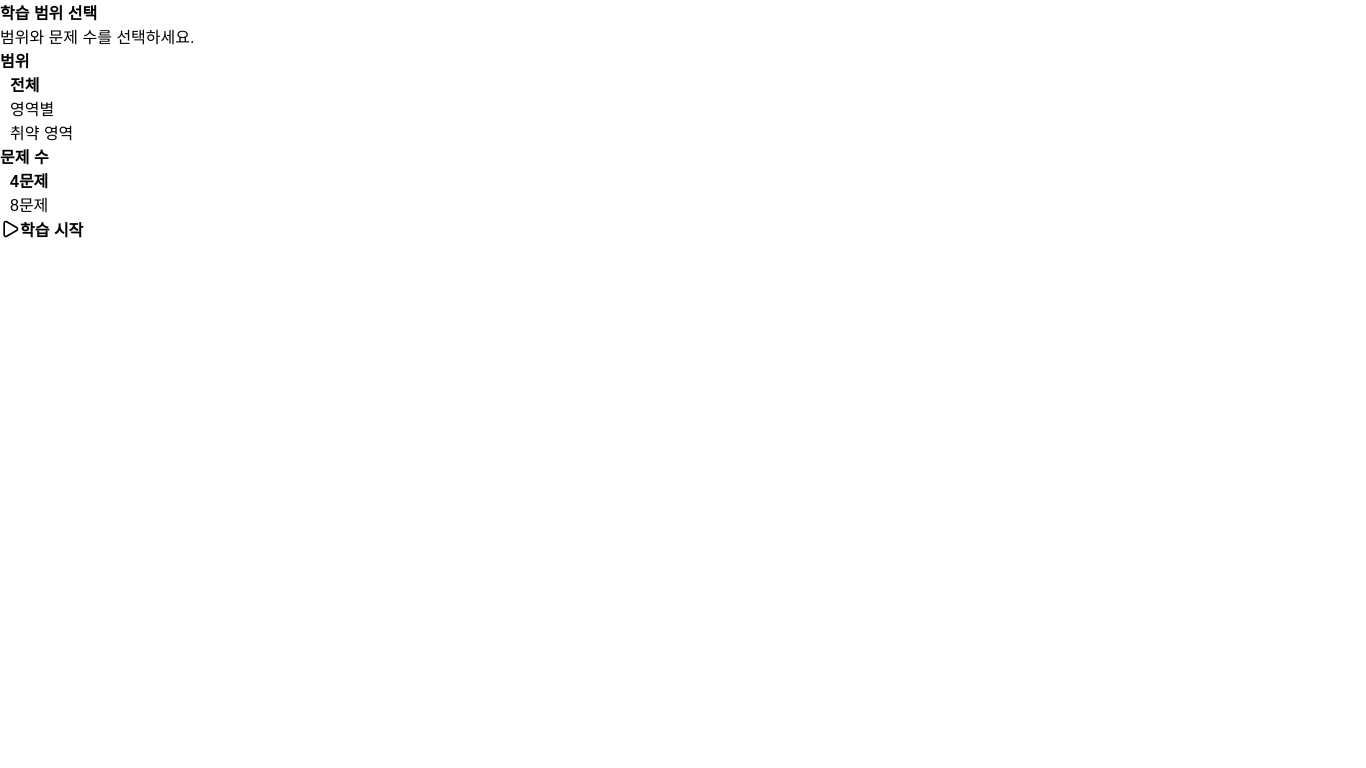
Test case: 학습 화면 버튼 위계 › 결과 화면: 새 세트 시작=primary·학습 이력·오답 복습=secondary(같은 크기)
The image size is (1366, 768).
Click the button "학습 시작".
click(42, 229)  # box [0,216,83,242]
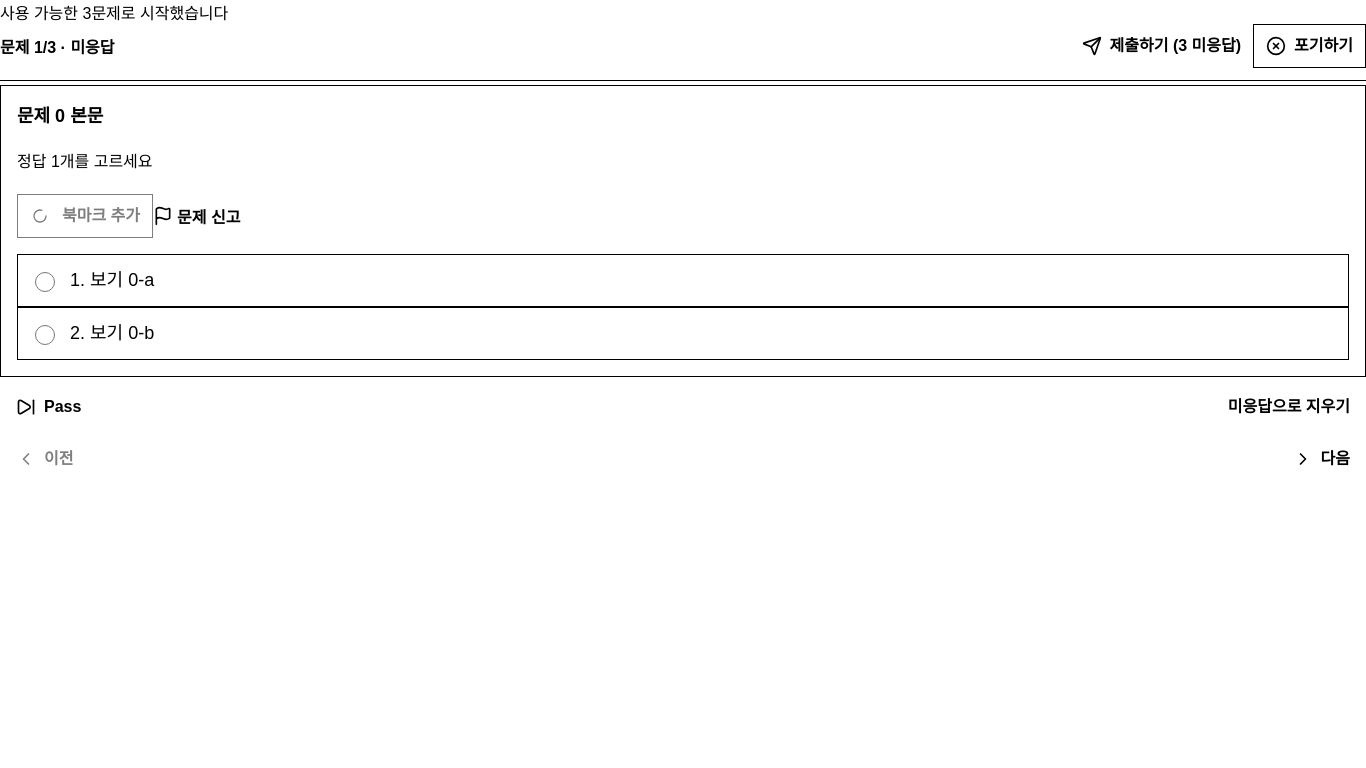
Result: the text "문제 1/3 · 미응답" is shown at [0,34,115,58]
Click the radio button with aria-label "보기 1".
click(45, 282)  # box [35,272,55,292]
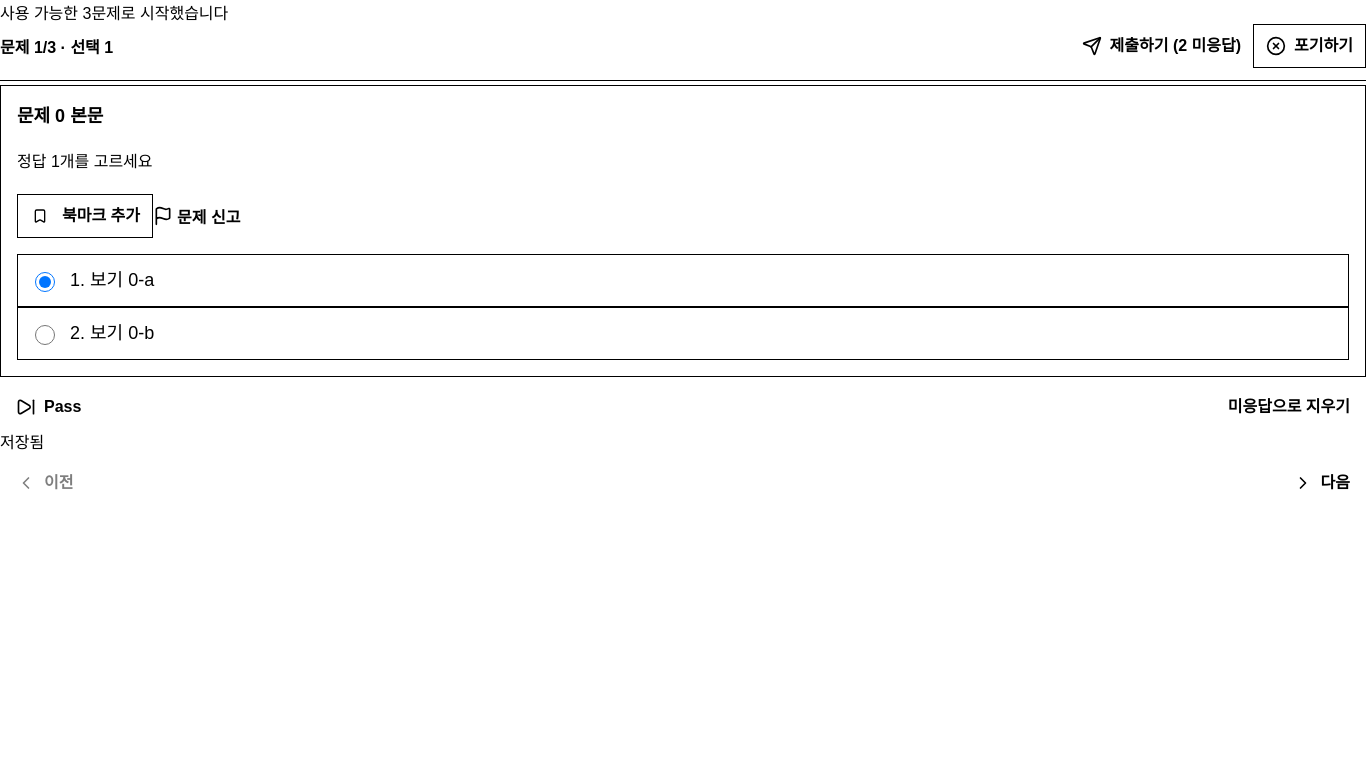
Result: the text "저장됨" is shown at [0,434,44,451]
Click the button "제출하기 (2 미응답)".
click(1161, 46)  # box [1070,24,1253,68]
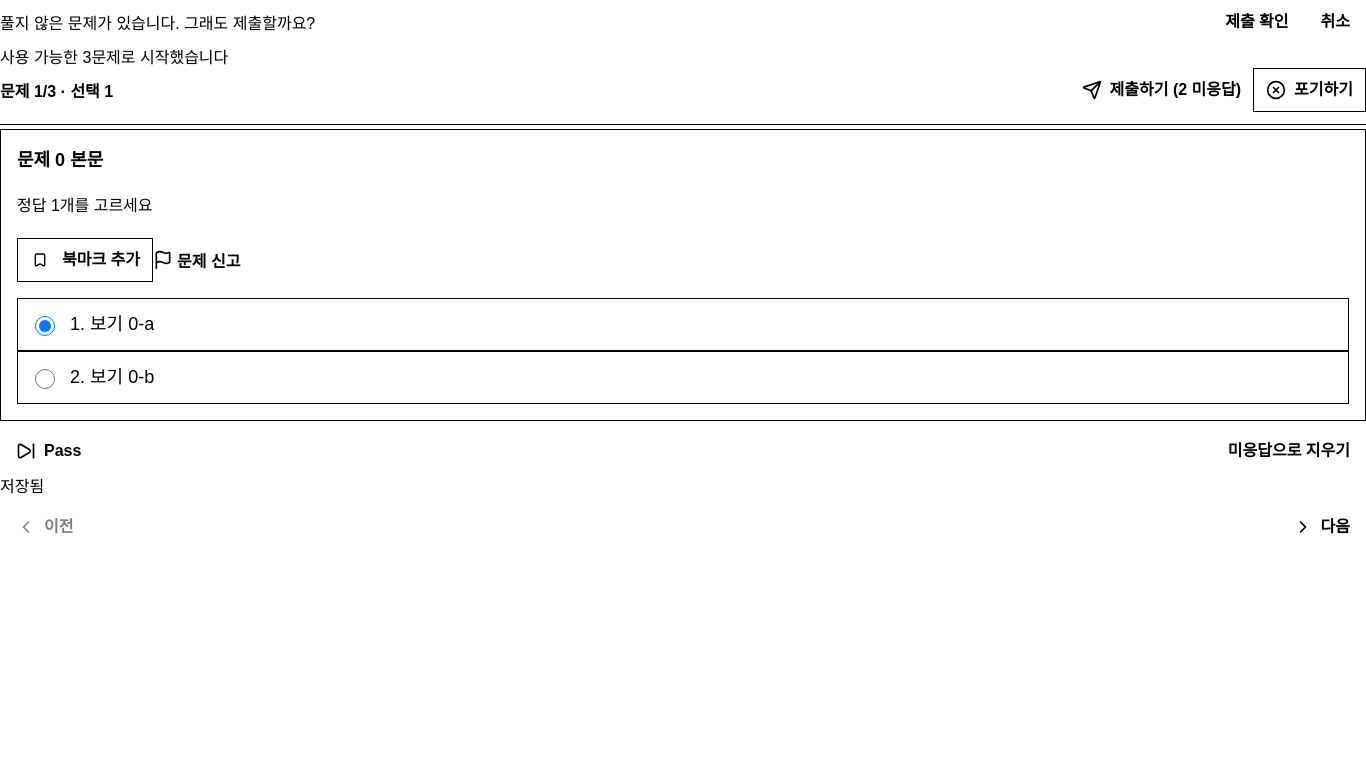
Click the button "제출 확인".
click(1257, 22)  # box [1209,0,1304,44]
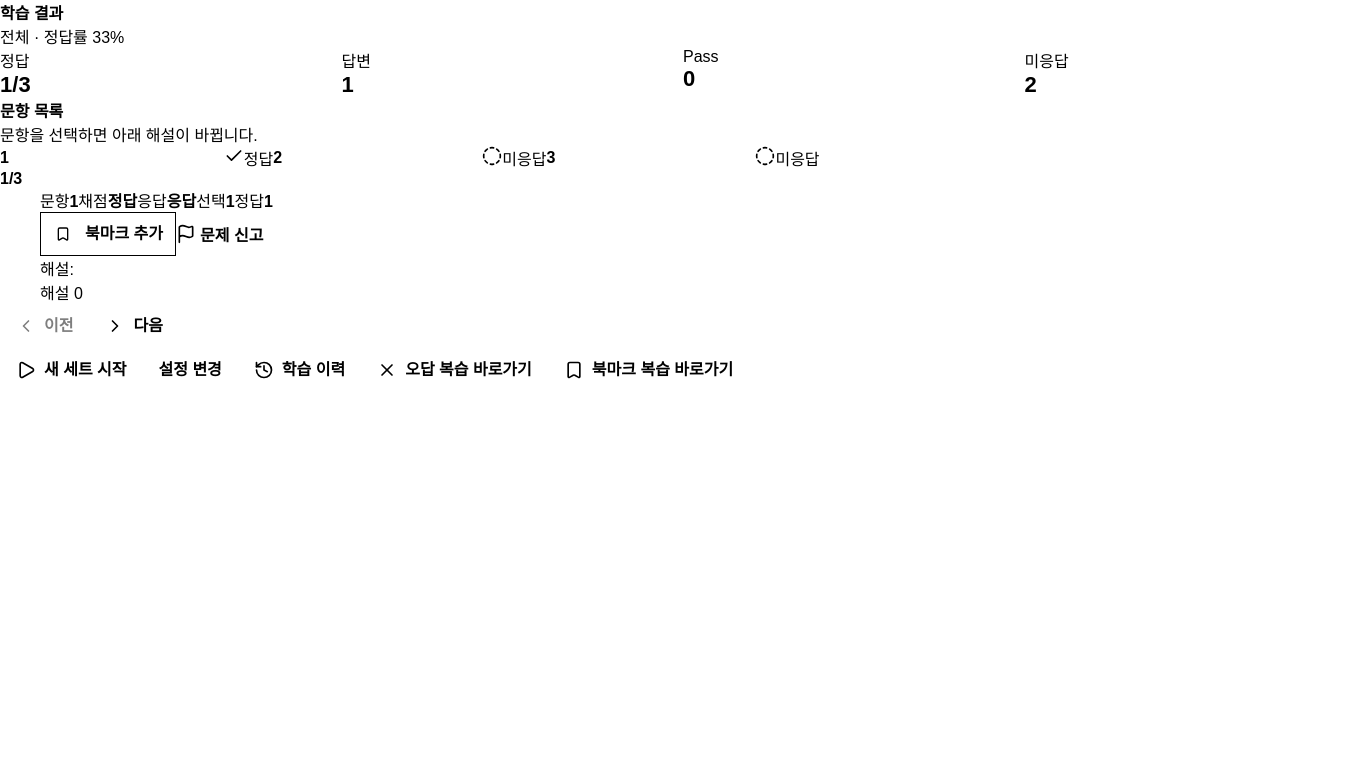
Result: the heading "학습 결과" is shown at [0,5,63,22]
